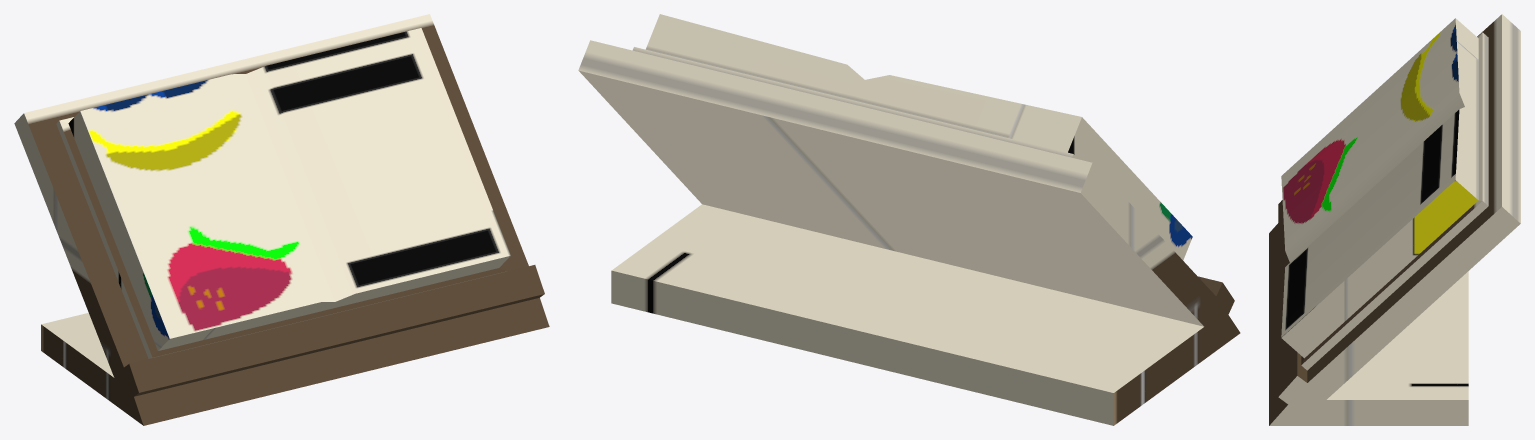
File: RecipeBook.fbx
3 views of the same model, side by side, from view 1: azimuth 30°, elevation 25°; view 2: azimuth 150°, elevation 25°; view 3: azimuth 270°, elevation 25° (orthographic). The views are drawn at different scales.
Parts seen in each view (by area): view 1: RecipeBook; view 2: RecipeBook; view 3: RecipeBook.
Part boxes in pixels (x1=…): RecipeBook: x1=14, y1=14, x2=549, y2=425; RecipeBook: x1=578, y1=14, x2=1240, y2=425; RecipeBook: x1=1269, y1=14, x2=1520, y2=425.
Bounding box in the file's own units: 16 × 8.92 × 8.83.
